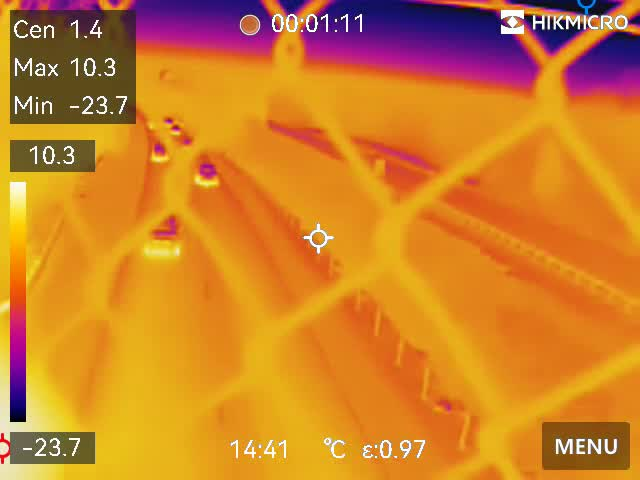vehicle: (146, 208, 179, 259), (193, 161, 225, 187), (147, 141, 168, 164), (167, 124, 184, 137)
